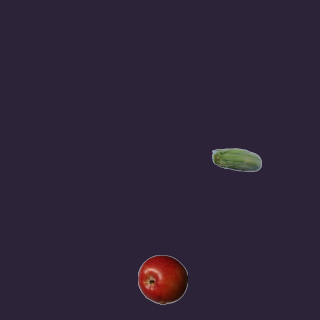Apple Braeburn: (137, 254, 187, 304)
Corn Husk: (211, 136, 261, 186)
